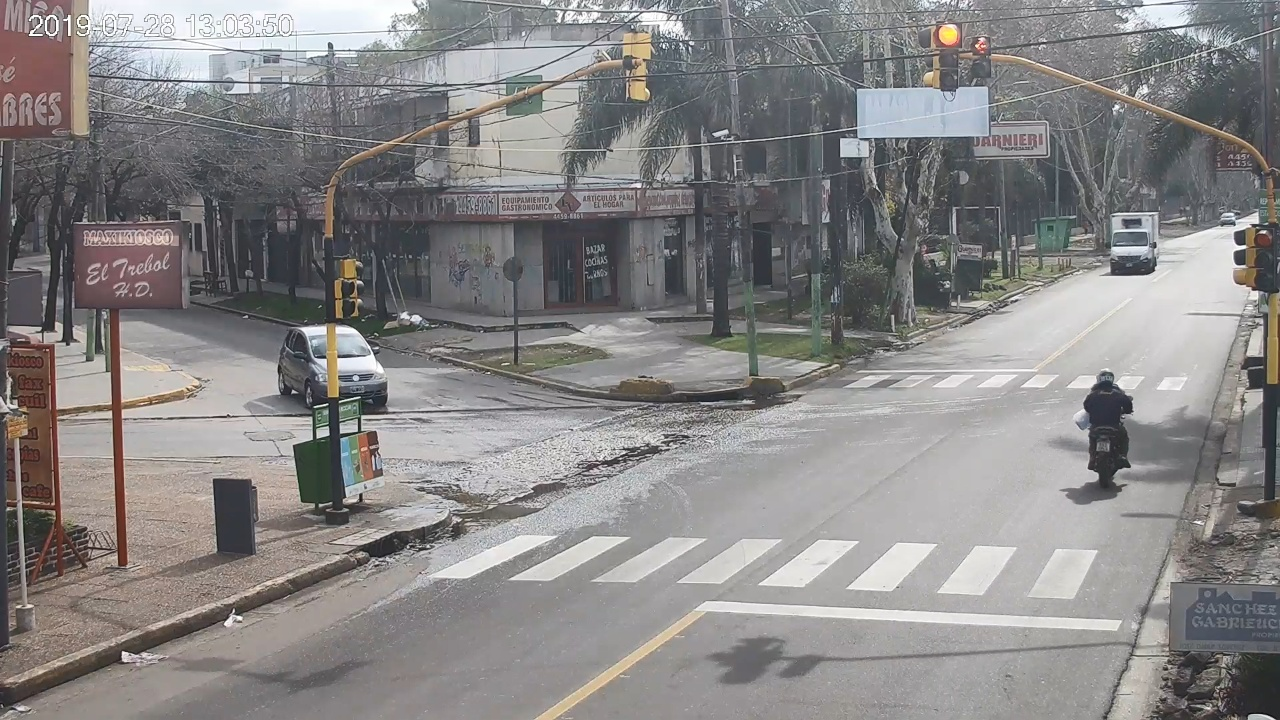motorcycle: (1083, 394, 1134, 487)
traffic light: (940, 22, 959, 90), (1255, 229, 1274, 288)
